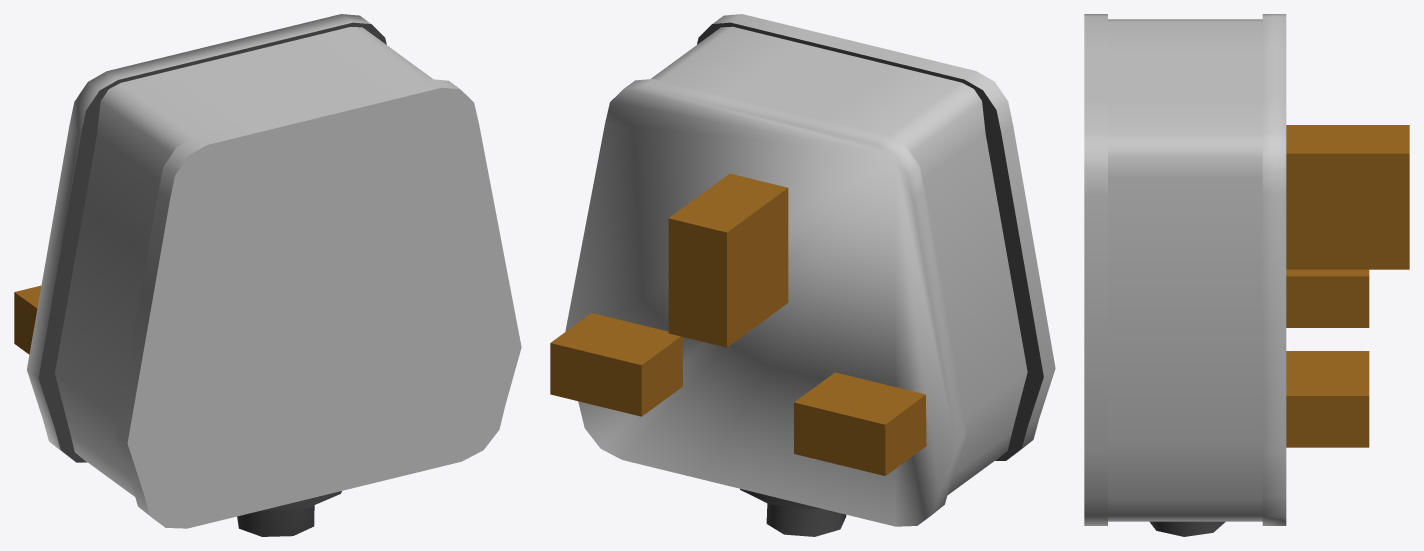
The model's file is Plug-Head.fbx.
3 renders of one model, left to right at view 1: azimuth 30°, elevation 25°; view 2: azimuth 150°, elevation 25°; view 3: azimuth 270°, elevation 25°, orthographic.
Parts seen in each view (by area): view 1: Plug; view 2: Plug; view 3: Plug.
Part boxes in pixels (box(x1,y1,x2,y2)): Plug: box(14, 14, 521, 536); Plug: box(550, 14, 1055, 536); Plug: box(1084, 14, 1409, 536).
Bounding box in the file's own units: 26.93 × 28.93 × 19.19.
